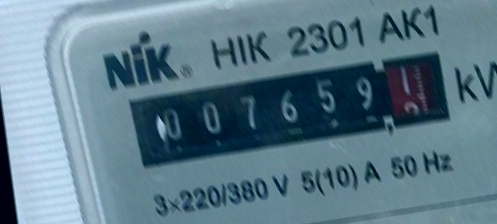0: (161, 102, 187, 144), (199, 97, 227, 136)
1: (396, 60, 417, 98)
5: (316, 75, 340, 115)
6: (277, 85, 303, 124)
7: (237, 91, 263, 131)
9: (353, 72, 379, 112)
screen: (120, 43, 463, 177)
